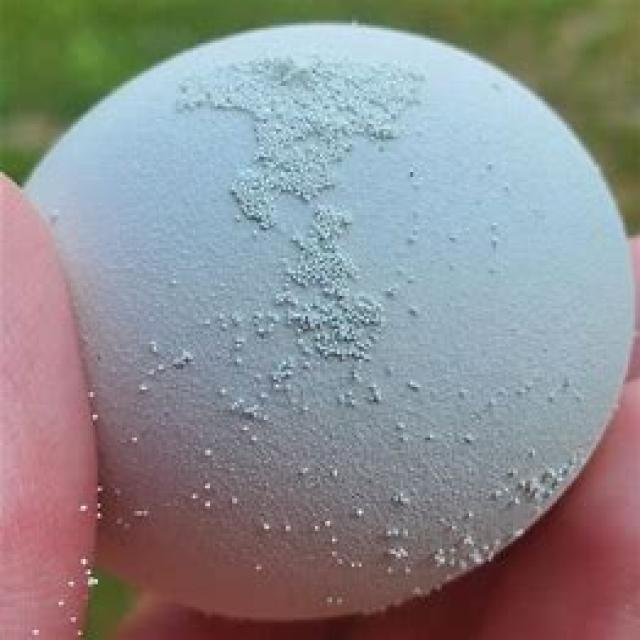Calcium Deposit Egg: (23, 18, 640, 633)
